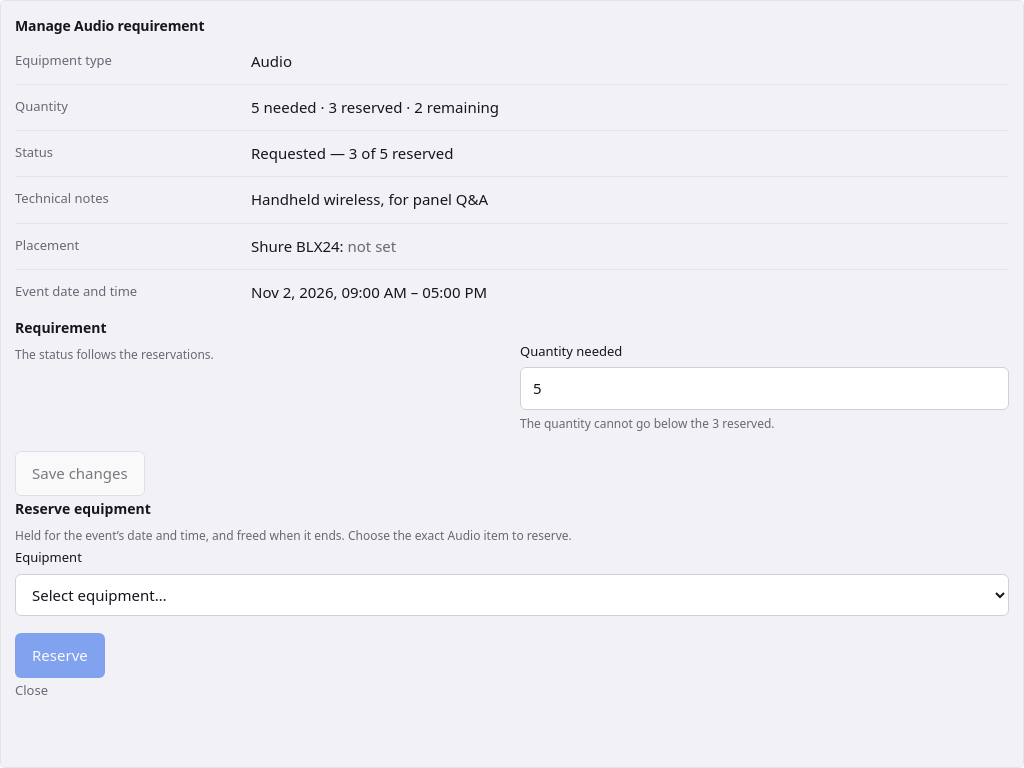
Test: saving the status and quantity › does not send a quantity below what is reserved
This screenshot has width=1024, height=768.
Replace the text in the number field labelled "Quantity needed" with "2" at (764, 389), box [520,367,1009,410]
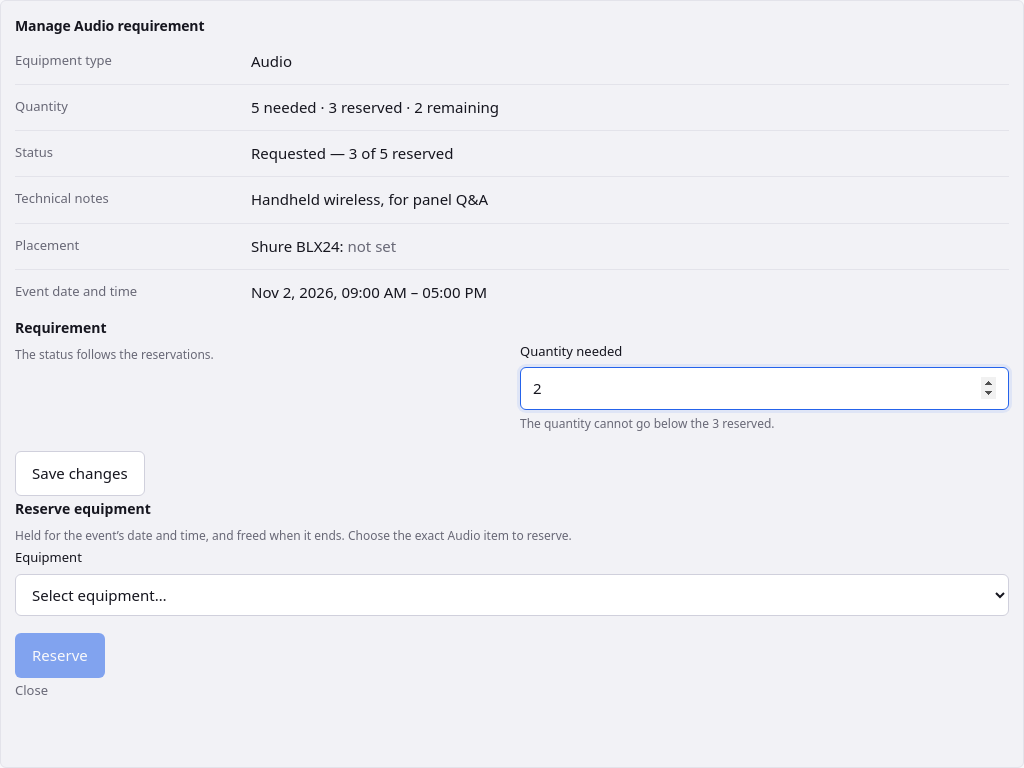
Click the button "Save changes" at (80, 474), box [15,451,145,496]
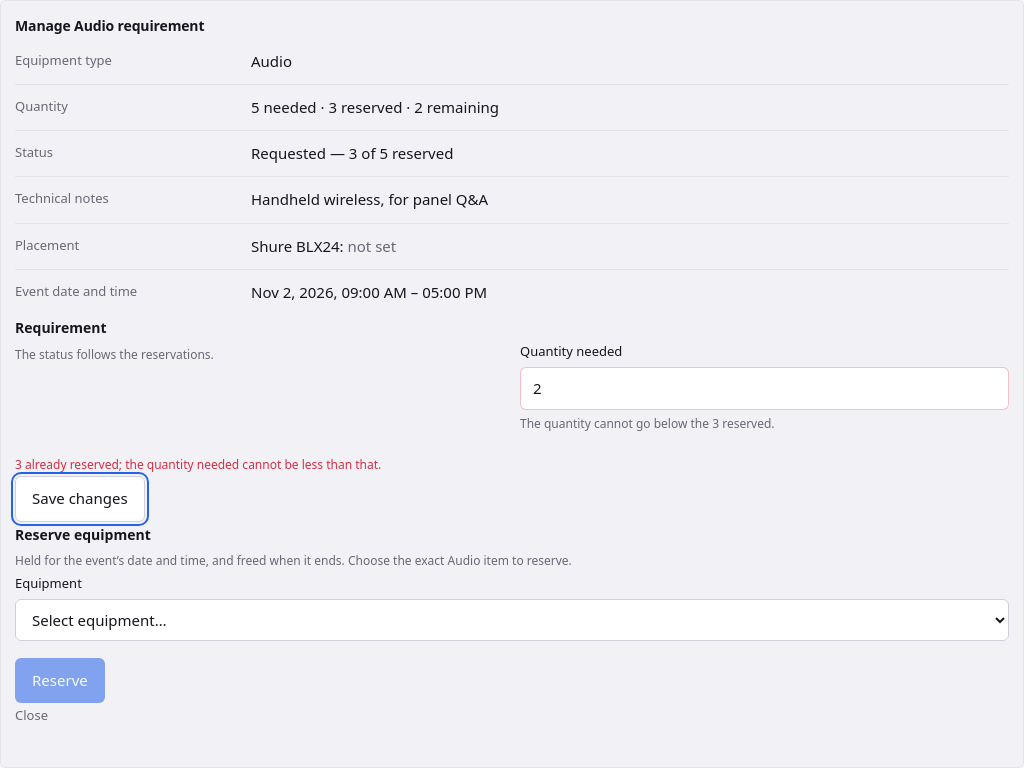
expect the message shows "3 already reserved": met, box [15,456,381,473]
